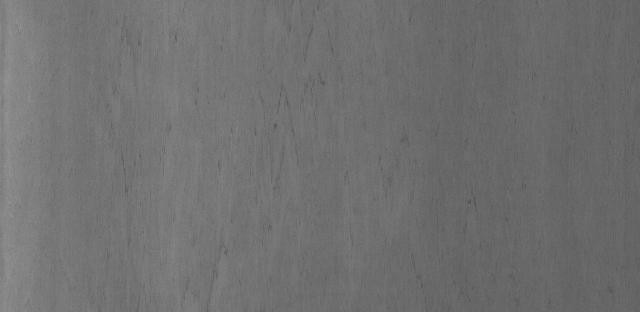silk_spot: (195, 18, 413, 219)
